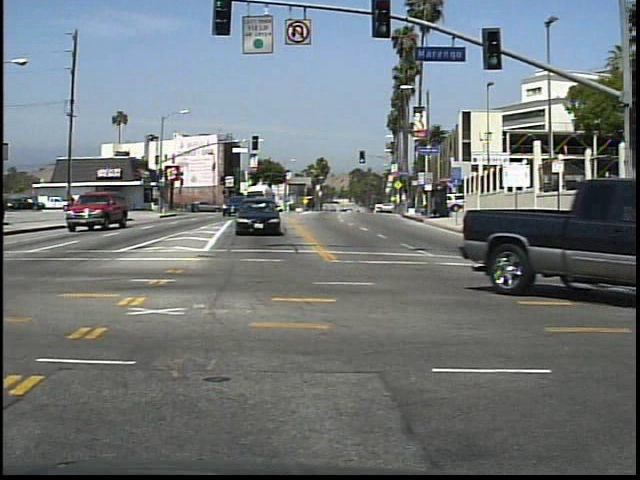person: (65, 191, 82, 220)
